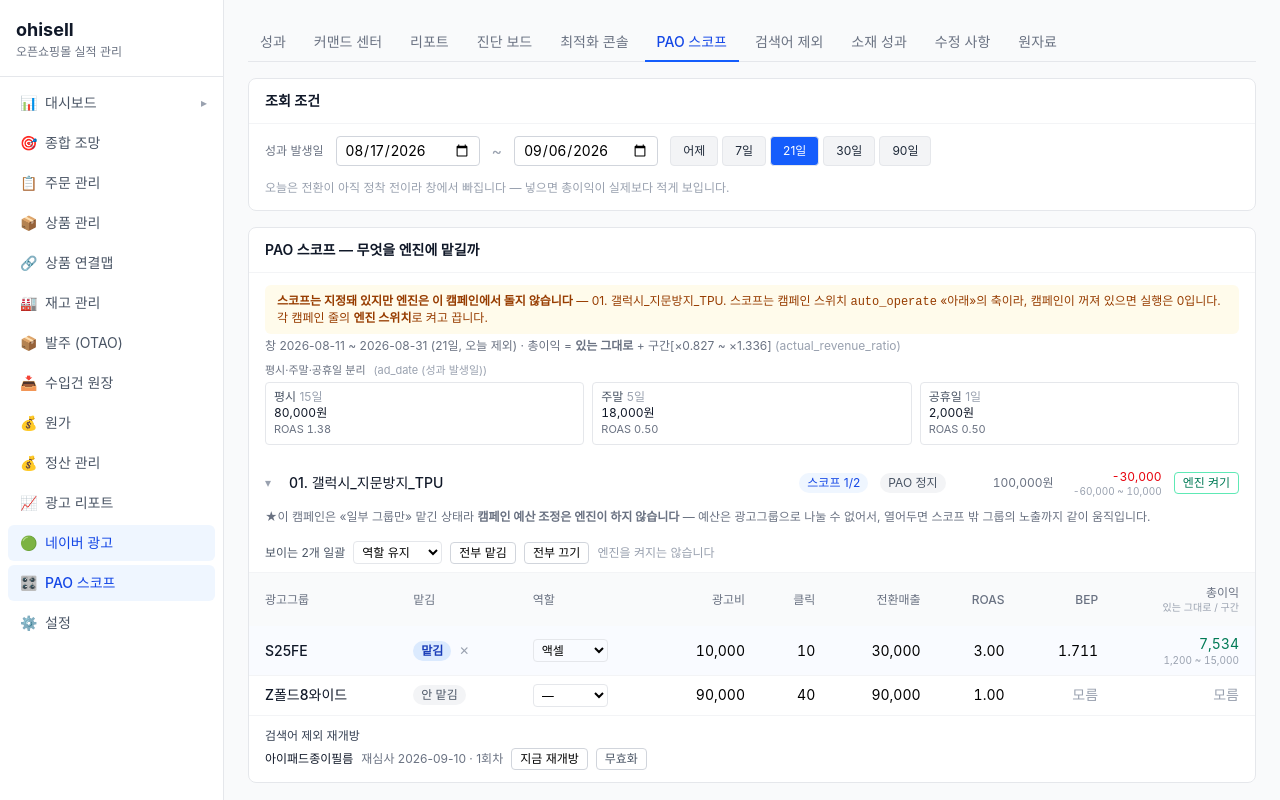
Test case: void — 원장 무효화 손이 사람에게 닿는다 › BV-5b: `true`와 `false`는 서로 다른 문구로 말한다
The width and height of the screenshot is (1280, 800).
Click the button "무효화": [621, 759] box left=596, top=748, right=647, bottom=770
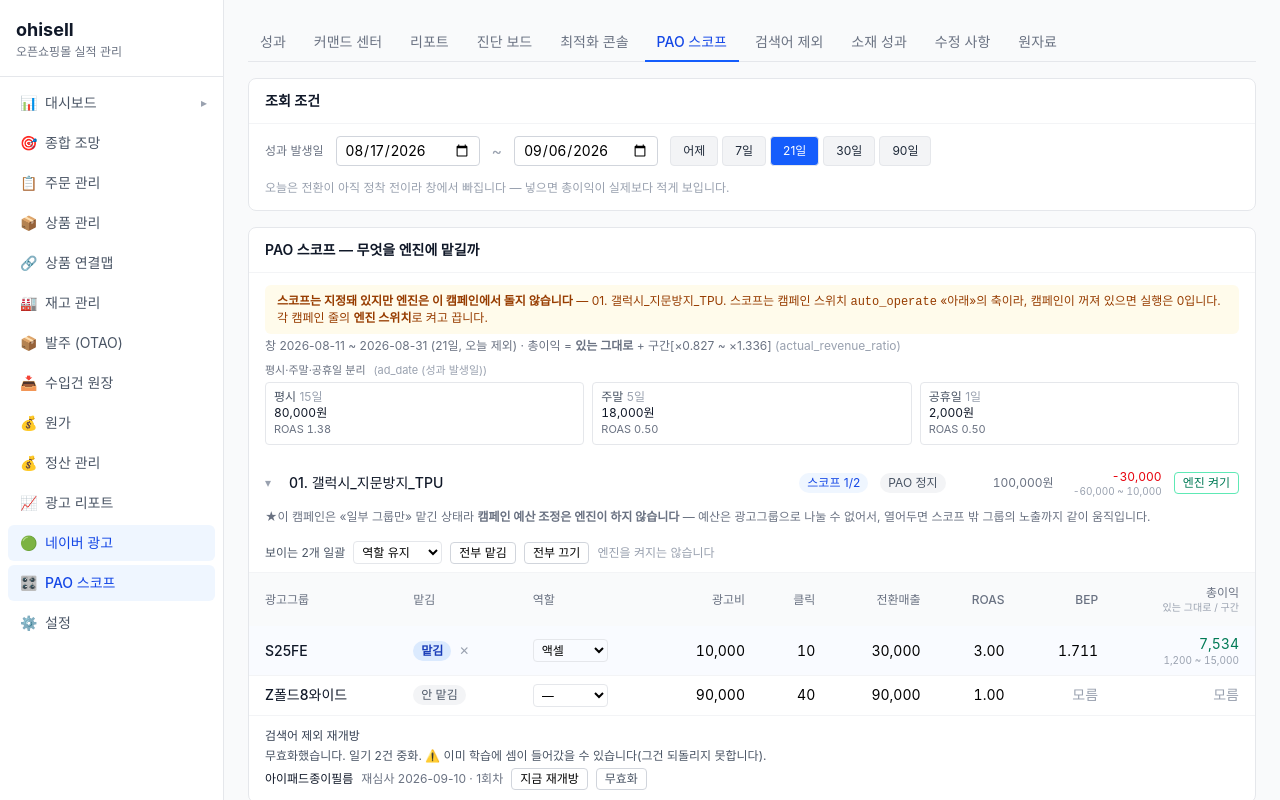
Now the text "무효화했습니다. 일기 2건 중화. ⚠️ 이미 학습에 셈이 들어갔을 수 있습니다(그건 되돌리지 못합니다)." is shown, box left=265, top=748, right=766, bottom=763
